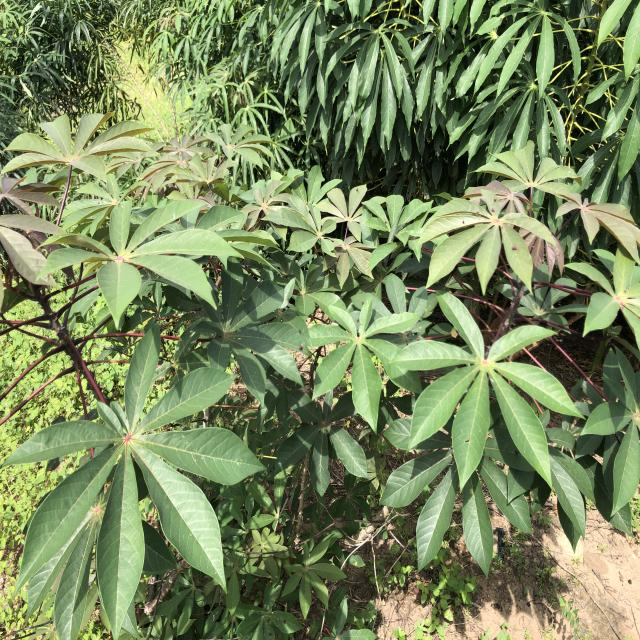Mosca: (487, 197, 503, 216), (512, 240, 524, 259), (295, 339, 305, 357), (461, 437, 473, 452), (458, 213, 470, 226), (352, 183, 362, 195)
